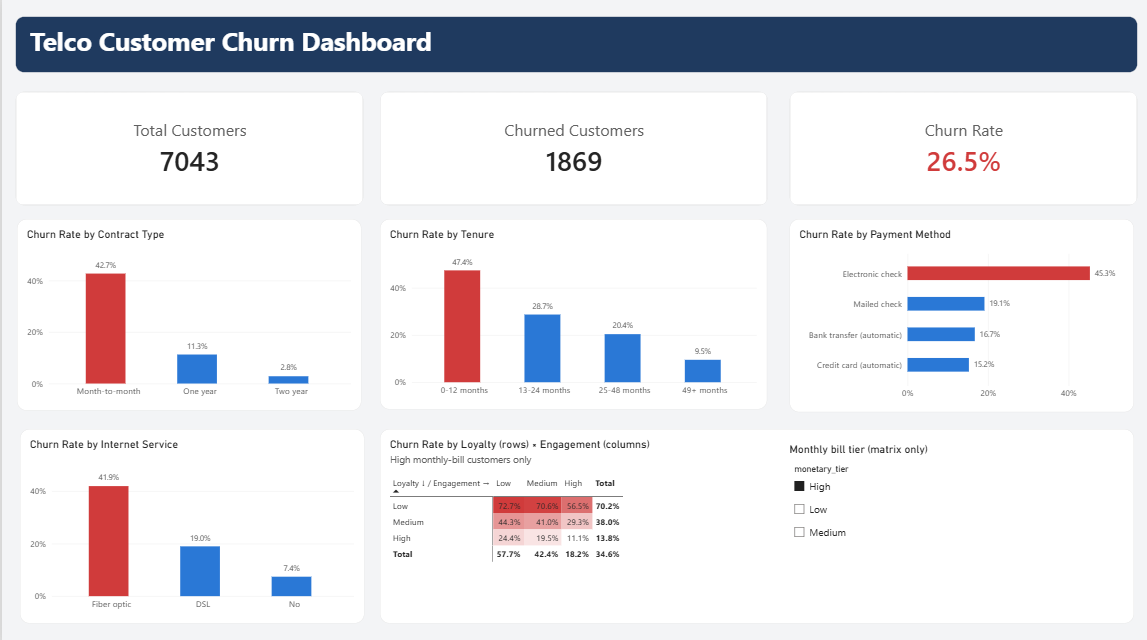

Layout of this report page (visuals, bound fields, positions):
{"tool":"powerbi","page":{"name":"Page 1","canvas":[1920,1080],"ordinal":0},"visuals":[{"type":"cardVisual","fields":{"Data":["customer_rfm_export.Total Customers"]},"box":[23.3,156.7,580,190],"z":0},{"type":"cardVisual","fields":{"Data":["customer_rfm_export.Churned Customers"]},"box":[630,156.7,646.7,190],"z":1},{"type":"cardVisual","fields":{"Data":["customer_rfm_export.Churn Rate"]},"box":[1313.3,156.7,580,190],"z":2},{"type":"clusteredColumnChart","title":"Churn Rate by Contract Type","fields":{"Category":["customer_rfm_export.contract"],"Y":["customer_rfm_export.Churn Rate"]},"box":[26.1,369.6,573.9,319.6],"z":3},{"type":"clusteredColumnChart","title":"Churn Rate by Tenure","fields":{"Category":["customer_rfm_export.tenure_bucket"],"Y":["customer_rfm_export.Churn Rate"]},"box":[630.4,369.6,645.7,317.4],"z":4},{"type":"clusteredBarChart","title":"Churn Rate by Payment Method","fields":{"Category":["customer_rfm_export.payment_method"],"Y":["customer_rfm_export.Churn Rate"]},"box":[1313,369.6,573.9,321.7],"z":5},{"type":"clusteredColumnChart","title":"Churn Rate by Internet Service","fields":{"Category":["customer_rfm_export.internet_service"],"Y":["customer_rfm_export.Churn Rate"]},"box":[30.4,719.6,573.9,323.9],"z":6},{"type":"pivotTable","title":"Churn Rate by Loyalty (rows) × Engagement (columns)","fields":{"Columns":["customer_rfm_export.engagement_tier"],"Rows":["customer_rfm_export.loyalty_tier"],"Values":["customer_rfm_export.Churn Rate"]},"box":[630.4,719.6,1256.5,323.9],"z":7},{"type":"slicer","title":"Monthly bill tier (matrix only)","fields":{"Values":["customer_rfm_export.monetary_tier"]},"box":[1313.3,743.3,573.3,276.7],"z":8},{"type":"textbox","box":[23.3,33.3,1870,93.3],"z":9}]}

Visuals, with their boxes in screenshot pixels (x1, y1, x2, y2), scaled from the page's 1920x1080 canvas onto the 1147x640 screenshot:
cardVisual - customer_rfm_export.Total Customers: bbox(14, 93, 360, 205)
cardVisual - customer_rfm_export.Churned Customers: bbox(376, 93, 763, 205)
cardVisual - customer_rfm_export.Churn Rate: bbox(785, 93, 1131, 205)
"Churn Rate by Contract Type" clusteredColumnChart: bbox(16, 219, 358, 408)
"Churn Rate by Tenure" clusteredColumnChart: bbox(377, 219, 762, 407)
"Churn Rate by Payment Method" clusteredBarChart: bbox(784, 219, 1127, 410)
"Churn Rate by Internet Service" clusteredColumnChart: bbox(18, 426, 361, 618)
"Churn Rate by Loyalty (rows) × Engagement (columns)" pivotTable: bbox(377, 426, 1127, 618)
"Monthly bill tier (matrix only)" slicer: bbox(785, 440, 1127, 604)
textbox: bbox(14, 20, 1131, 75)
